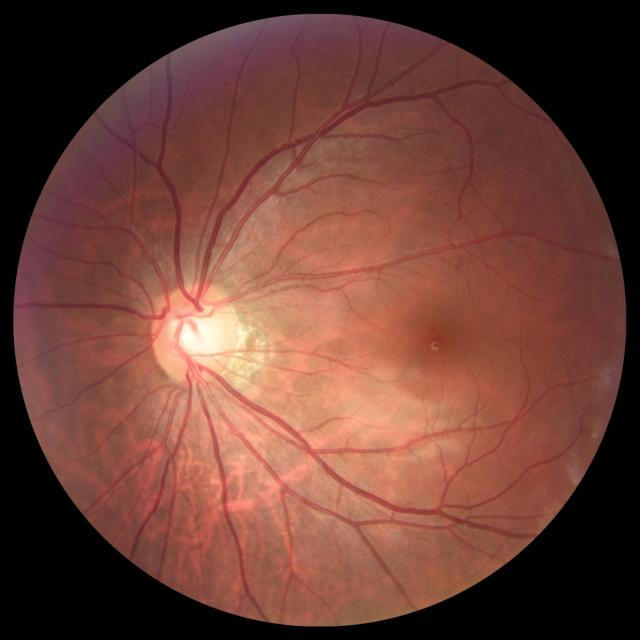OC: (169, 308, 221, 359)
OD: (152, 282, 238, 383)
